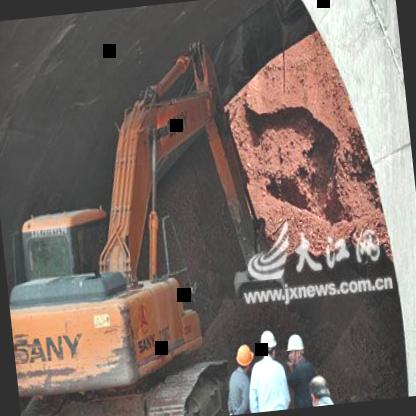head: (304, 370, 334, 407)
helmet: (285, 330, 307, 366), (234, 342, 254, 369), (258, 328, 276, 358)
